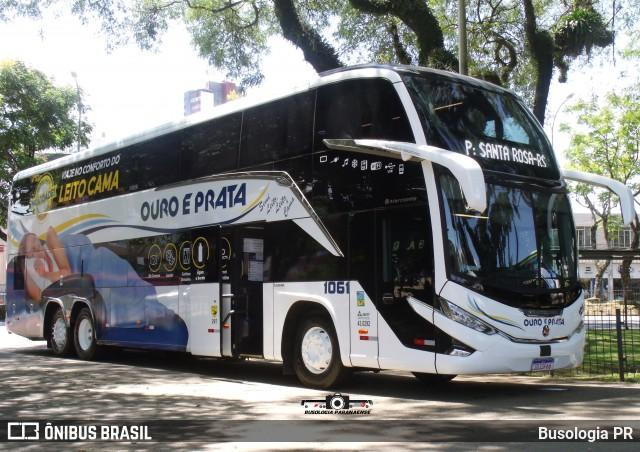SANTA ROSA: (474, 138, 538, 168)
